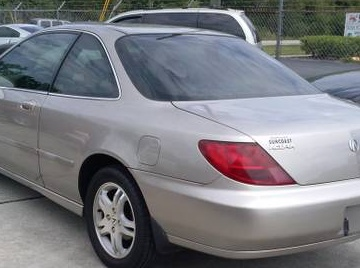acura: (1, 23, 360, 266)
